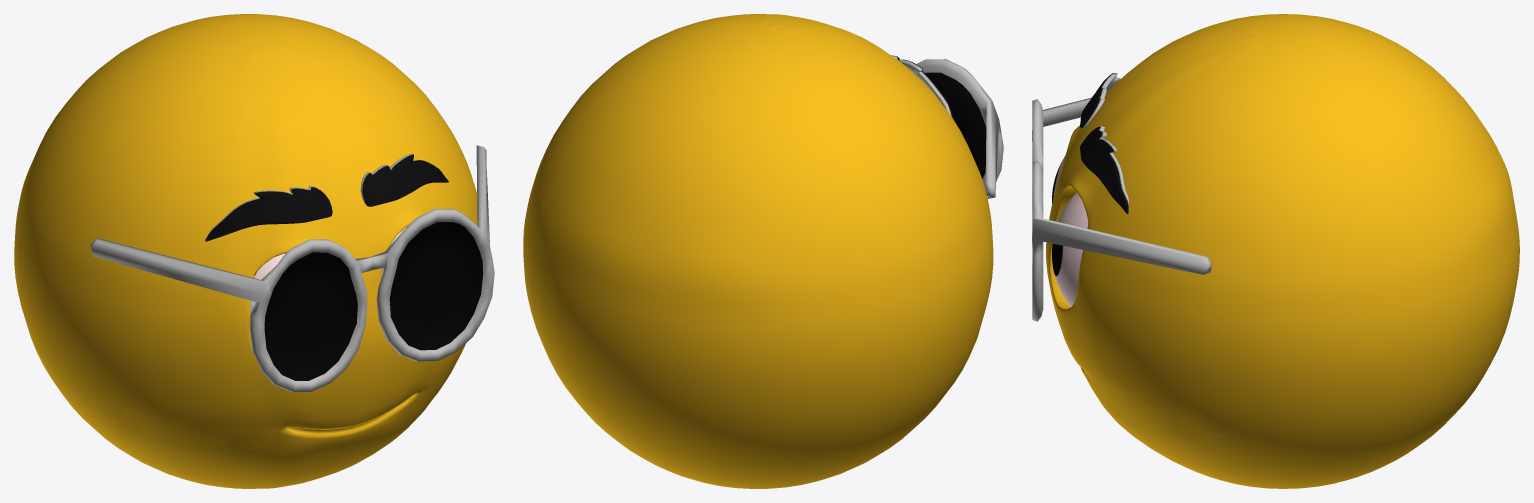
File: cool_000003.obj
3 views of the same model, side by side, from view 1: azimuth 30°, elevation 25°; view 2: azimuth 150°, elevation 25°; view 3: azimuth 270°, elevation 25° (orthographic).
Visible parts, largest first — view 1: Smiley_goggle:Smiley_Untitled.001; view 2: Smiley_goggle:Smiley_Untitled.001; view 3: Smiley_goggle:Smiley_Untitled.001.
Boxes of the visible parts, left/top/right/bottom form: Smiley_goggle:Smiley_Untitled.001: left=14, top=14, right=494, bottom=488; Smiley_goggle:Smiley_Untitled.001: left=523, top=14, right=1003, bottom=488; Smiley_goggle:Smiley_Untitled.001: left=1032, top=14, right=1519, bottom=488.
Bounding box in the file's own units: 0.0425 × 0.0431 × 0.044.
2 materials, 2 textured.
